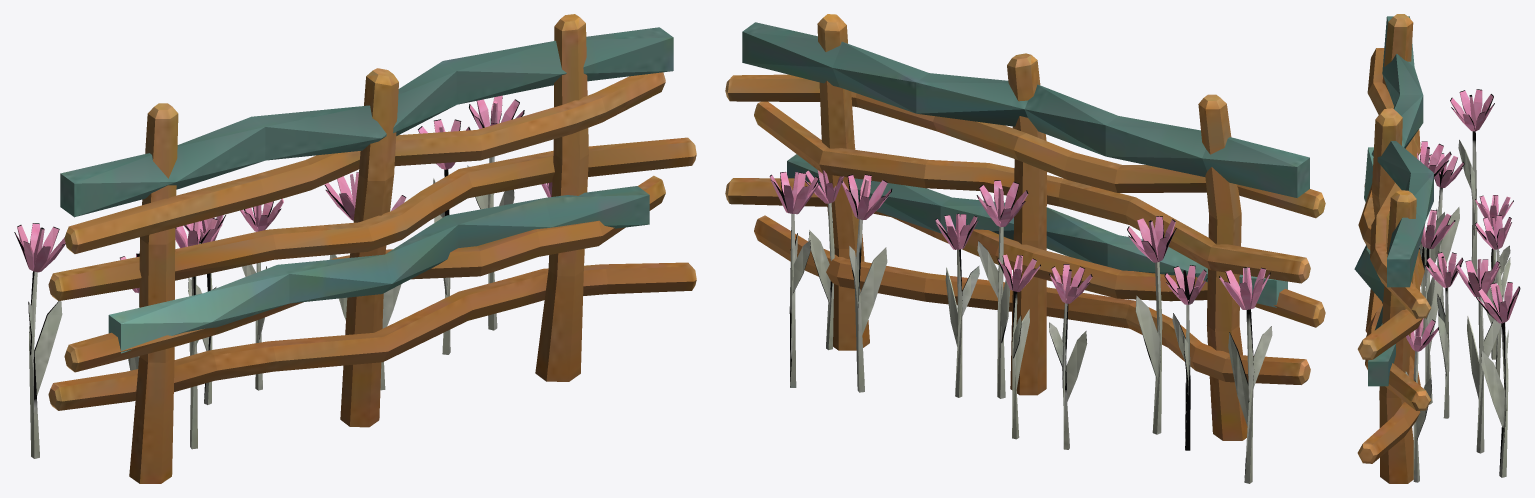
Rendered from fence_flower_lattice_low.glb.
The picture shows the model from 3 angles, left to right: view 1: azimuth 30°, elevation 25°; view 2: azimuth 150°, elevation 25°; view 3: azimuth 270°, elevation 25°; orthographic projection. The views are drawn at different scales.
Visible parts, largest first — view 1: fence_flower_lattice_low; view 2: fence_flower_lattice_low; view 3: fence_flower_lattice_low.
Boxes of the visible parts, left/top/right/bottom form: fence_flower_lattice_low: left=14, top=14, right=696, bottom=483; fence_flower_lattice_low: left=725, top=14, right=1325, bottom=483; fence_flower_lattice_low: left=1354, top=14, right=1520, bottom=483.
Bounding box in the file's own units: 1.07 × 0.6 × 0.3.
1 material, 1 textured.
